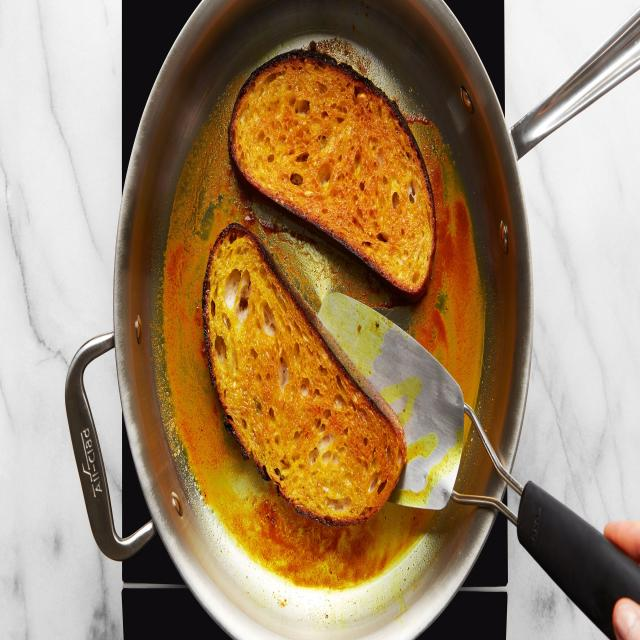Bread: (202, 224, 406, 524), (229, 51, 436, 298)
